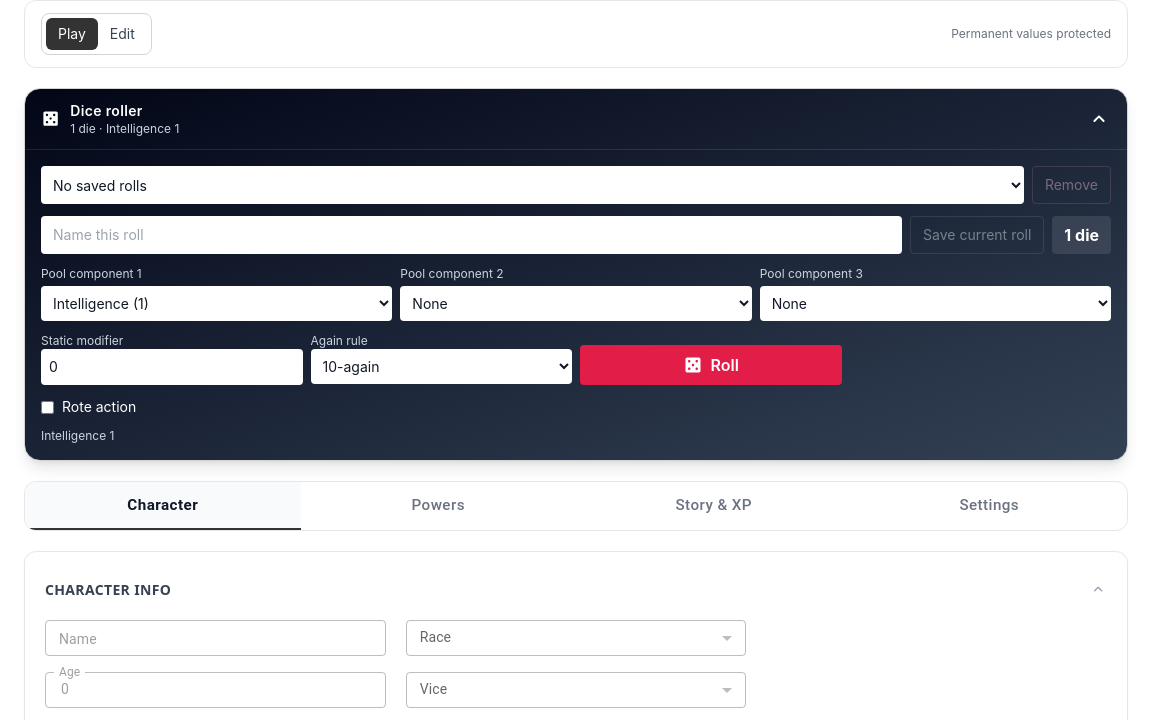
Test: per-sheet Play/Edit mode › stores the selected mode in the sheet data
Click the button "Edit".
click(122, 34)  # box [98, 18, 147, 50]
Wait 400 ms
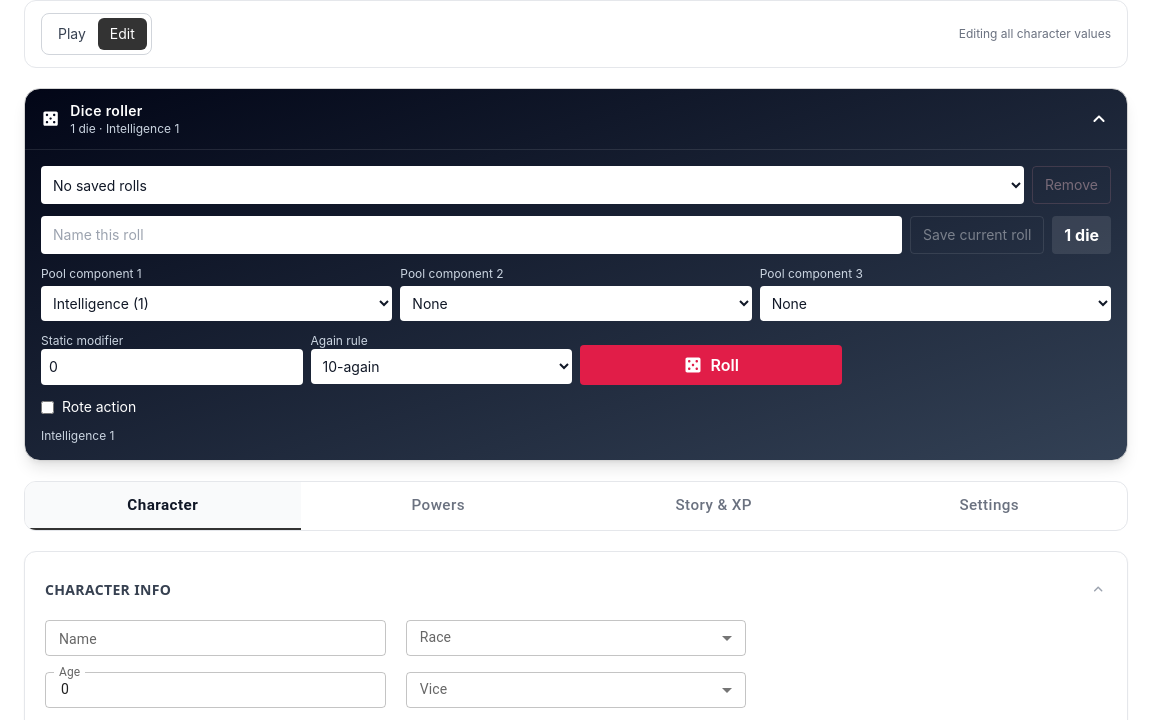
Result: the text "Editing all character values" is shown at [959, 26, 1111, 42]
